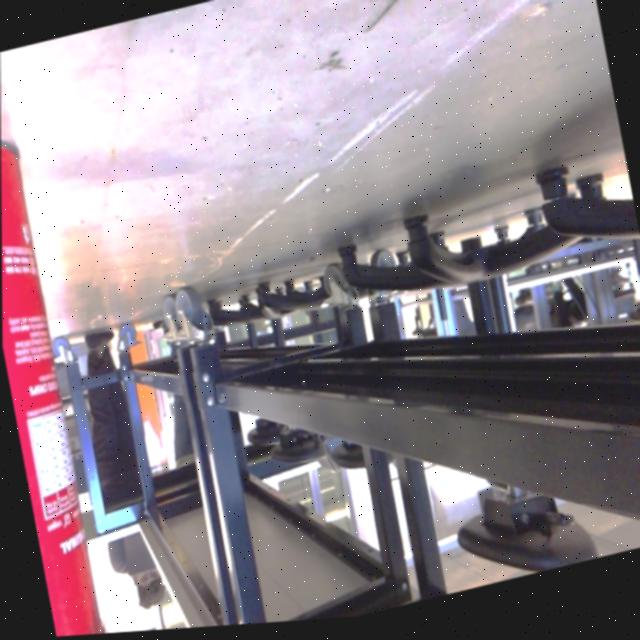redpringles: (1, 94, 145, 640)
